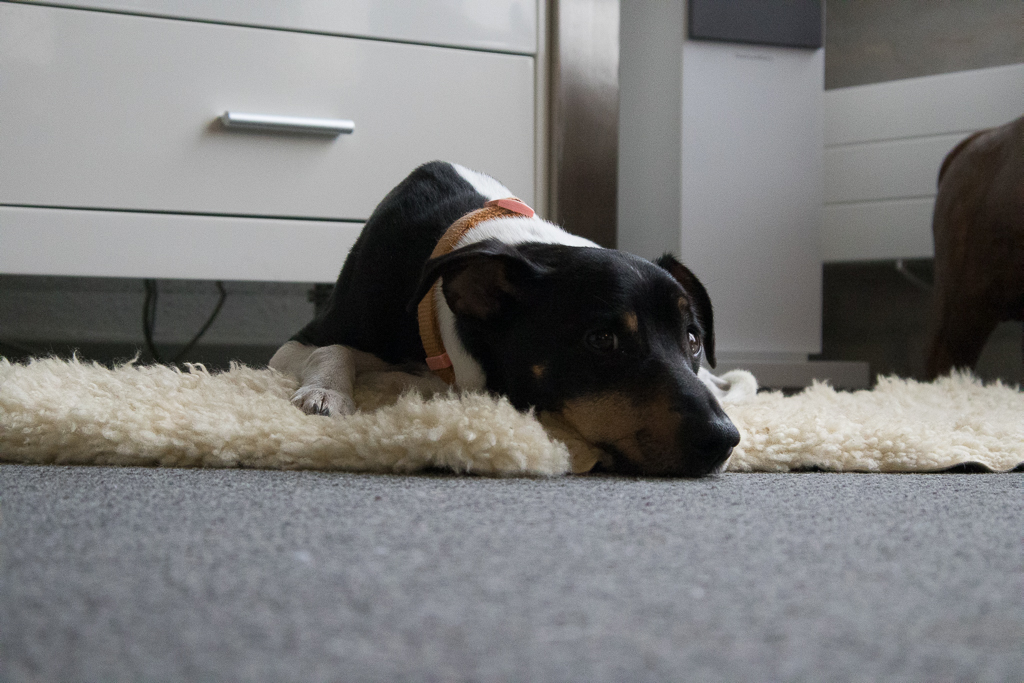Cattle: (908, 106, 1024, 390)
Dog: (253, 144, 750, 496)
